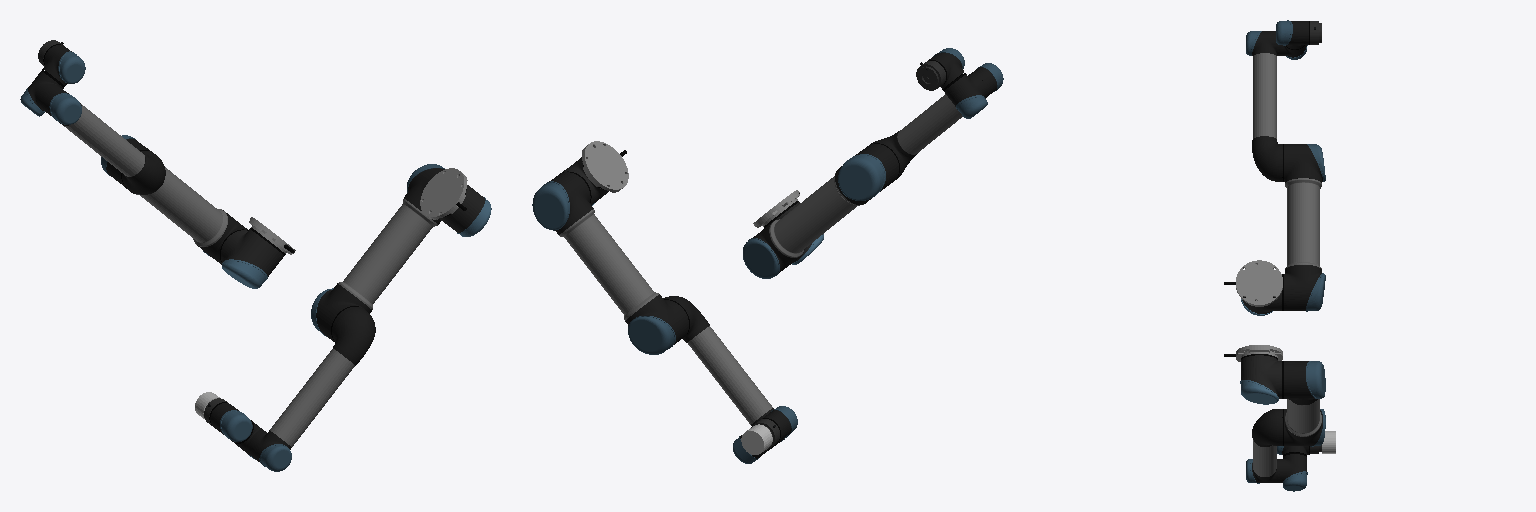
URDF robot description (madar):
<?xml version="1.0"?>
<robot name="madar">

    <!-- BEGIN: T-STRUCTURE -->
    <link name="madar_base_link">
        <visual>
            <geometry>
                <mesh filename="/meshes/estructura_asm.dae"/>
            </geometry>
        </visual>
        <collision>
            <origin xyz="0 0 0.375" rpy="0 0 0"/>
            <geometry>
                <cylinder radius="0.4" length="0.75"/>
            </geometry>
        </collision>
        <collision>
            <origin xyz="0 0 1.395" rpy="0 0 0"/>
            <geometry>
                <box size="0.5 0.08 0.05"/>
            </geometry>
        </collision>
        <collision>
            <origin xyz="0 0 1.056" rpy="0 0 0"/>
            <geometry>
                <box size="0.08 0.08 0.63"/>
            </geometry>
        </collision>
        <collision>
            <origin xyz="0 -0.14 0.916" rpy="0 0 0" />
            <geometry>
                <box size="0.43 0.2 0.33"/>
            </geometry>
        </collision>
    </link>
    <!-- END: T-STRUCTURE -->

    <!-- END: WHEELS -->
    <joint name="motor_1" type="continuous">
      <parent link="madar_base_link"/>
      <child link="wheel_1_link"/>
      <axis xyz="-1 0 0"/>
      <origin rpy="2.0944 0 1.5708" xyz="0 -0.2905 0.1"/>
    </joint>
  
    <link name="wheel_1_link">
      <visual>
        <geometry>
            <mesh filename="/meshes/wheel.dae"/>
        </geometry>
      </visual>
      <collision>
        <geometry>
          <sphere radius="0.10"/>
        </geometry>
      </collision>
      <inertial>
         <mass value="10"/>
         <inertia ixx="0.04" ixy="0" ixz="0" iyy="0.04" iyz="0" izz="0.04"/> <!-- Provisional inertia values -->
       </inertial>
    </link>
  
    <joint name="motor_2" type="continuous">
      <parent link="madar_base_link"/>
      <child link="wheel_2_link"/>
      <axis xyz="-1 0 0"/>
      <origin rpy="0 0 3.66519" xyz="0.25158 0.14525 0.1"/>
    </joint>
  
    <link name="wheel_2_link">
      <visual>
        <geometry>
            <mesh filename="/meshes/wheel.dae"/>
        </geometry>
      </visual>
      <collision>
        <geometry>
          <sphere radius="0.10"/>
        </geometry>
      </collision>
      <inertial>
         <mass value="10"/>
         <inertia ixx="0.04" ixy="0" ixz="0" iyy="0.04" iyz="0" izz="0.04"/>
       </inertial>
    </link>
  
    <joint name="motor_3" type="continuous">
      <parent link="madar_base_link"/>
      <child link="wheel_3_link"/>
      <axis xyz="-1 0 0"/>
      <origin rpy="0 0 5.75959" xyz="-0.25158 0.14525 0.1"/>
    </joint>
  
    <link name="wheel_3_link">
      <visual>
        <geometry>
            <mesh filename="/meshes/wheel.dae"/>
        </geometry>
      </visual>
      <collision>
        <geometry>
          <sphere radius="0.10"/>
        </geometry>
      </collision>
      <inertial>
         <mass value="10"/>
         <inertia ixx="0.04" ixy="0" ixz="0" iyy="0.04" iyz="0" izz="0.04"/>
       </inertial>
    </link>
  
    <!-- END: WHEELS -->

    <!-- BEGIN: ARM RIGHT -->

    <joint name="right_base_link" type="fixed">
        <parent link="madar_base_link"/>
        <child link="right_base_link"/>
        <origin xyz="0.256 0.0 1.389" rpy="3.142 -0.7874 0.000"/>
    </joint>

    <link name="right_base_link">
        <visual>
            <origin xyz="0 0 0" rpy="0 0 3.14159"/>
            <geometry>
                <mesh filename="../UR5/visual/base.dae"/>
            </geometry>
        </visual>
        <collision>
            <origin xyz="0 0 0" rpy="0 0 3.14159"/>
            <geometry>
                <mesh filename="../UR5/collision/base.stl"/>
            </geometry>
        </collision>
        <inertial>
            <mass value="4.0000"/>
            <inertia ixx="0.00443333156" ixy="0" ixz="0" iyy="0.00443333156" iyz="0" izz="0.0072"/>
        </inertial>
    </link>
    
    <joint name="right_shoulder_pan_joint" type="revolute">
        <parent link="right_base_link"/>
        <child link="right_shoulder_link"/>
        <origin xyz="0 0 0.089159" rpy="0 0 0"/>
        <axis xyz="0 0 1"/>
        <limit effort="150" lower="-6.2831853" upper="6.2831853" velocity="3.14159"/>
    </joint>
    
    <link name="right_shoulder_link">
        <visual>
            <origin xyz="0 0 0" rpy="0 0 3.14159"/>
            <geometry>
                <mesh filename="../UR5/visual/shoulder.dae"/>
            </geometry>
        </visual>
        <collision>
            <origin xyz="0 0 0" rpy="0 0 3.14159"/>
            <geometry>
                <mesh filename="../UR5/collision/shoulder.stl"/>
            </geometry>
        </collision>
        <inertial>
            <mass value="3.7000"/>
            <inertia ixx="0.010267495893" ixy="0" ixz="0" iyy="0.010267495893" iyz="0" izz="0.00666"/>
        </inertial>
    </link>
    
    <joint name="right_shoulder_lift_joint" type="revolute">
        <parent link="right_shoulder_link"/>
        <child link="right_upper_arm_link"/>
        <origin xyz="0 0 0" rpy="1.570796327 0 0"/>
        <axis xyz="0 0 1"/>
        <limit effort="150" lower="-6.2831853" upper="6.2831853" velocity="3.14159"/>
    </joint>
    
    <link name="right_upper_arm_link">
        <visual>
            <origin xyz="0 0 0.13585" rpy="1.57079 0 -1.57079"/>
            <geometry>
                <mesh filename="../UR5/visual/upperarm.dae"/>
            </geometry>
        </visual>
        <collision>
            <origin xyz="0 0 0.13585" rpy="1.57079 0 -1.57079"/>
            <geometry>
                <mesh filename="../UR5/collision/upperarm.stl"/>
            </geometry>
        </collision>
        <inertial>
          <mass value="8.3930"/>
          <origin xyz="0 0 0.28"/>
          <inertia ixx="0.22689067591" ixy="0" ixz="0" iyy="0.22689067591" iyz="0" izz="0.0151074"/>
        </inertial>
    </link>
    
    <joint name="right_elbow_joint" type="revolute">
        <parent link="right_upper_arm_link"/>
        <child link="right_fore_arm_link"/>
        <origin xyz="-0.425 0 0" rpy="0 0 0"/>
        <axis xyz="0 0 1"/>
        <limit effort="150" lower="-6.2831853" upper="6.2831853" velocity="3.14159"/>
        <!-- <limit effort="150" lower="-3.14159" upper="3.14159" velocity="3.14159"/> -->
    </joint>
    
    <link name="right_fore_arm_link">
        <visual>
            <origin xyz="0 0 0.0165" rpy="1.57079 0 -1.57079"/>
            <geometry>
                <mesh filename="../UR5/visual/forearm.dae"/>
            </geometry>
        </visual>
        <collision>
            <origin xyz="0 0 0.0165" rpy="1.57079 0 -1.57079"/>
            <geometry>
                <mesh filename="../UR5/collision/forearm.stl"/>
            </geometry>
        </collision>
        <inertial>
            <mass value="2.3300"/>
            <origin xyz="0 0 0.25"/>
            <inertia ixx="0.049443313556" ixy="0" ixz="0" iyy="0.049443313556" iyz="0" izz="0.004095"/>
        </inertial>
    </link>
    
    <joint name="right_wrist_1_joint" type="revolute">
        <parent link="right_fore_arm_link"/>
        <child link="right_wrist_1_link"/>
        <origin xyz="-0.39225 0 0.10915" rpy="0 0 0"/>
        <axis xyz="0 0 1"/>
        <limit effort="28" lower="-6.2831853" upper="6.2831853" velocity="3.14159"/>
      </joint>
    
    <link name="right_wrist_1_link">
        <visual>
            <origin xyz="0 0 -0.093" rpy="1.57079 0 0"/>
            <geometry>
                <mesh filename="../UR5/visual/wrist1.dae"/>
            </geometry>
        </visual>
        <collision>
            <origin xyz="0 0 -0.093" rpy="1.57079 0 0"/>
            <geometry>
                <mesh filename="../UR5/collision/wrist1.stl"/>
            </geometry>
        </collision>
        <inertial>
            <mass value="1.2190"/>
            <inertia ixx="0.111172755531" ixy="0" ixz="0" iyy="0.111172755531" iyz="0" izz="0.21942"/>
        </inertial>
    </link>
    
    <joint name="right_wrist_2_joint" type="revolute">
        <parent link="right_wrist_1_link"/>
        <child link="right_wrist_2_link"/>
        <origin xyz="0 -0.09465 -1.941303950897609e-11" rpy="1.570796327 0 0"/>
        <axis xyz="0 0 1"/>
        <limit effort="28" lower="-6.2831853" upper="6.2831853" velocity="3.14159"/>
    </joint>
    
    <link name="right_wrist_2_link">
        <visual>
            <origin xyz="0 0 -0.095" rpy="0 0 0"/>
            <geometry>
                <mesh filename="../UR5/visual/wrist2.dae"/>
            </geometry>
        </visual>
        <collision>
            <origin xyz="0 0 -0.095" rpy="0 0 0"/>
            <geometry>
                <mesh filename="../UR5/collision/wrist2.stl"/>
            </geometry>
        </collision>
        <inertial>
            <mass value="1.2190"/>
            <inertia ixx="0.111172755531" ixy="0" ixz="0" iyy="0.111172755531" iyz="0" izz="0.21942"/>
        </inertial>
    </link>
    
    <joint name="right_wrist_3_joint" type="revolute">
        <parent link="right_wrist_2_link"/>
        <child link="right_wrist_3_link"/>
        <origin xyz="0 0.0823 -1.688001216681175e-11" rpy="1.570796326589793 3.141592653589793 3.141592653589793"/>
        <axis xyz="0 0 1"/>
        <limit effort="28" lower="-6.2831853" upper="6.2831853" velocity="3.14159"/>
    </joint>
    
    <link name="right_wrist_3_link">
        <visual>
            <origin xyz="0 0 -0.0818" rpy="1.57079 0 0"/>
            <geometry>
                <mesh filename="../UR5/visual/wrist3.dae"/>
            </geometry>
        </visual>
        <collision>
            <origin xyz="0 0 -0.0818" rpy="1.57079 0 0"/>
            <geometry>
                <mesh filename="../UR5/collision/wrist3.stl"/>
            </geometry>
        </collision>
        <inertial>
            <mass value="0.1879"/>
            <inertia ixx="0.0171364731454" ixy="0" ixz="0" iyy="0.0171364731454" iyz="0" izz="0.033822"/>
        </inertial>
    </link>

    <!-- END: ARM RIGHT -->

    <!-- BEGIN: ARM LEFT -->

    <joint name="left_base_link" type="fixed">
        <parent link="madar_base_link"/>
        <child link="left_base_link"/>
        <origin xyz="-0.256 0.0 1.389" rpy="-3.142 0.7874 0.000"/>
    </joint>

    <link name="left_base_link">
        <visual>
            <origin xyz="0 0 0" rpy="0 0 3.14159"/>
            <geometry>
                <mesh filename="../UR5/visual/base.dae"/>
            </geometry>
        </visual>
        <collision>
            <origin xyz="0 0 0" rpy="0 0 3.14159"/>
            <geometry>
                <mesh filename="../UR5/collision/base.stl"/>
            </geometry>
        </collision>
        <inertial>
            <mass value="4.0000"/>
            <inertia ixx="0.00443333156" ixy="0" ixz="0" iyy="0.00443333156" iyz="0" izz="0.0072"/>
        </inertial>
    </link>
    
    <joint name="left_shoulder_pan_joint" type="revolute">
        <parent link="left_base_link"/>
        <child link="left_shoulder_link"/>
        <origin xyz="0 0 0.089159" rpy="0 0 0"/>
        <axis xyz="0 0 1"/>
        <limit effort="150" lower="-6.2831853" upper="6.2831853" velocity="3.14159"/>
    </joint>
    
    <link name="left_shoulder_link">
        <visual>
            <origin xyz="0 0 0" rpy="0 0 3.14159"/>
            <geometry>
                <mesh filename="../UR5/visual/shoulder.dae"/>
            </geometry>
        </visual>
        <collision>
            <origin xyz="0 0 0" rpy="0 0 3.14159"/>
            <geometry>
                <mesh filename="../UR5/collision/shoulder.stl"/>
            </geometry>
        </collision>
        <inertial>
            <mass value="3.7000"/>
            <inertia ixx="0.010267495893" ixy="0" ixz="0" iyy="0.010267495893" iyz="0" izz="0.00666"/>
        </inertial>
    </link>
    
    <joint name="left_shoulder_lift_joint" type="revolute">
        <parent link="left_shoulder_link"/>
        <child link="left_upper_arm_link"/>
        <origin xyz="0 0 0" rpy="1.570796327 0 0"/>
        <axis xyz="0 0 1"/>
        <limit effort="150" lower="-6.2831853" upper="6.2831853" velocity="3.14159"/>
    </joint>
    
    <link name="left_upper_arm_link">
        <visual>
            <origin xyz="0 0 0.13585" rpy="1.57079 0 -1.57079"/>
            <geometry>
                <mesh filename="../UR5/visual/upperarm.dae"/>
            </geometry>
        </visual>
        <collision>
            <origin xyz="0 0 0.13585" rpy="1.57079 0 -1.57079"/>
            <geometry>
                <mesh filename="../UR5/collision/upperarm.stl"/>
            </geometry>
        </collision>
        <inertial>
          <mass value="8.3930"/>
          <origin xyz="0 0 0.28"/>
          <inertia ixx="0.22689067591" ixy="0" ixz="0" iyy="0.22689067591" iyz="0" izz="0.0151074"/>
        </inertial>
    </link>
    
    <joint name="left_elbow_joint" type="revolute">
        <parent link="left_upper_arm_link"/>
        <child link="left_fore_arm_link"/>
        <origin xyz="-0.425 0 0" rpy="0 0 0"/>
        <axis xyz="0 0 1"/>
        <limit effort="150" lower="-6.2831853" upper="6.2831853" velocity="3.14159"/>
    </joint>
    
    <link name="left_fore_arm_link">
        <visual>
            <origin xyz="0 0 0.0165" rpy="1.57079 0 -1.57079"/>
            <geometry>
                <mesh filename="../UR5/visual/forearm.dae"/>
            </geometry>
        </visual>
        <collision>
            <origin xyz="0 0 0.0165" rpy="1.57079 0 -1.57079"/>
            <geometry>
                <mesh filename="../UR5/collision/forearm.stl"/>
            </geometry>
        </collision>
        <inertial>
            <mass value="2.3300"/>
            <origin xyz="0 0 0.25"/>
            <inertia ixx="0.049443313556" ixy="0" ixz="0" iyy="0.049443313556" iyz="0" izz="0.004095"/>
        </inertial>
    </link>
    
    <joint name="left_wrist_1_joint" type="revolute">
        <parent link="left_fore_arm_link"/>
        <child link="left_wrist_1_link"/>
        <origin xyz="-0.39225 0 0.10915" rpy="0 0 0"/>
        <axis xyz="0 0 1"/>
        <limit effort="28" lower="-6.2831853" upper="6.2831853" velocity="3.14159"/>
      </joint>
    
    <link name="left_wrist_1_link">
        <visual>
            <origin xyz="0 0 -0.093" rpy="1.57079 0 0"/>
            <geometry>
                <mesh filename="../UR5/visual/wrist1.dae"/>
            </geometry>
        </visual>
        <collision>
            <origin xyz="0 0 -0.093" rpy="1.57079 0 0"/>
            <geometry>
                <mesh filename="../UR5/collision/wrist1.stl"/>
            </geometry>
        </collision>
        <inertial>
            <mass value="1.2190"/>
            <inertia ixx="0.111172755531" ixy="0" ixz="0" iyy="0.111172755531" iyz="0" izz="0.21942"/>
        </inertial>
    </link>
    
    <joint name="left_wrist_2_joint" type="revolute">
        <parent link="left_wrist_1_link"/>
        <child link="left_wrist_2_link"/>
        <origin xyz="0 -0.09465 -1.941303950897609e-11" rpy="1.570796327 0 0"/>
        <axis xyz="0 0 1"/>
        <limit effort="28" lower="-6.2831853" upper="6.2831853" velocity="3.14159"/>
    </joint>
    
    <link name="left_wrist_2_link">
        <visual>
            <origin xyz="0 0 -0.095" rpy="0 0 0"/>
            <geometry>
                <mesh filename="../UR5/visual/wrist2.dae"/>
            </geometry>
        </visual>
        <collision>
            <origin xyz="0 0 -0.095" rpy="0 0 0"/>
            <geometry>
                <mesh filename="../UR5/collision/wrist2.stl"/>
            </geometry>
        </collision>
        <inertial>
            <mass value="1.2190"/>
            <inertia ixx="0.111172755531" ixy="0" ixz="0" iyy="0.111172755531" iyz="0" izz="0.21942"/>
        </inertial>
    </link>
    
    <joint name="left_wrist_3_joint" type="revolute">
        <parent link="left_wrist_2_link"/>
        <child link="left_wrist_3_link"/>
        <origin xyz="0 0.0823 -1.688001216681175e-11" rpy="1.570796326589793 3.141592653589793 3.141592653589793"/>
        <axis xyz="0 0 1"/>
        <limit effort="28" lower="-6.2831853" upper="6.2831853" velocity="3.14159"/>
    </joint>
    
    <link name="left_wrist_3_link">
        <visual>
            <origin xyz="0 0 -0.0818" rpy="1.57079 0 0"/>
            <geometry>
                <mesh filename="../UR5/visual/wrist3.dae"/>
            </geometry>
        </visual>
        <collision>
            <origin xyz="0 0 -0.0818" rpy="1.57079 0 0"/>
            <geometry>
                <mesh filename="../UR5/collision/wrist3.stl"/>
            </geometry>
        </collision>
        <inertial>
            <mass value="0.1879"/>
            <inertia ixx="0.0171364731454" ixy="0" ixz="0" iyy="0.0171364731454" iyz="0" izz="0.033822"/>
        </inertial>
    </link>

    <!-- END: ARM LEFT -->

    <!-- BEGIN: HAND RIGHT -->

    <joint name="right_hand_adapter_joint" type="fixed">
        <origin xyz="0 0 0.0225" rpy="0 0 0"/>
        <parent link="right_wrist_3_link"/>
        <child link="right_hand_adapter_link"/>
    </joint>

    <link name="right_hand_adapter_link" >
        <visual>
            <origin xyz="0 0 0" rpy="0 0 0" />
            <geometry>
                <cylinder radius="0.035" length="0.045"/>
            </geometry>
            <material name="LightGrey">
                <color rgba="0.7 0.7 0.7 1.0"/>
            </material>
        </visual>
        <collision>
            <origin xyz="0 0 0" rpy="0 0 0" />
            <geometry>
                <cylinder radius="0.035" length="0.045"/>
            </geometry>
        </collision>
    </link>

    <joint name="right_hand_support_joint" type="fixed">
        <parent link="right_hand_adapter_link"/>
        <child link = "right_hand_base_link" />
        <origin xyz="0.0 0.01 0.1175" rpy="0.0 0.0 1.570796326589793" />
    </joint>

    <link name="right_hand_base_link">
        <visual>
            <geometry>
                <mesh filename="../AllegroHand/right/ah_right_base_link.stl"/>
            </geometry>
            <origin rpy="0 0 0" xyz="0 0 0 "/>
            <material name="black">
                <color rgba="0.2 0.2 0.2 1"/>
            </material>
        </visual>
        <collision>
            <origin rpy="0 0 0" xyz="-0.009300 0 -0.0475"/>
            <geometry>
                <box size="0.0408 0.1130 0.095"/>
            </geometry>
        </collision>
    </link>



    <!-- END: HAND RIGHT -->

    <!-- BEGIN: HAND LEFT -->

    <!-- END: HAND LEFT -->	

</robot>

--- Facts derived from the render (not from the file) ---
The picture shows the robot from 3 angles, left to right: view 1: azimuth 30°, elevation 25°; view 2: azimuth 150°, elevation 25°; view 3: azimuth 270°, elevation 25°; orthographic projection.
Model madar with 20 links and 19 joints (12 revolute, 3 continuous, 4 fixed), rooted at madar_base_link, posed all joints at 0.
Visible links, largest first — view 1: right_upper_arm_link, right_fore_arm_link, left_fore_arm_link, left_upper_arm_link, left_shoulder_link, right_base_link, right_shoulder_link, left_wrist_2_link, right_wrist_2_link, left_wrist_1_link; view 2: right_upper_arm_link, left_upper_arm_link, right_fore_arm_link, left_fore_arm_link, right_base_link, left_wrist_1_link, left_wrist_2_link, right_hand_adapter_link, left_wrist_3_link, right_wrist_2_link; view 3: left_upper_arm_link, left_fore_arm_link, right_upper_arm_link, right_fore_arm_link, right_shoulder_link, left_base_link, right_wrist_1_link, left_wrist_2_link.
Link boxes in pixels (box(x1,y1,x2,y2)): right_upper_arm_link: box(311, 164, 444, 342); right_fore_arm_link: box(249, 307, 375, 471); left_fore_arm_link: box(39, 85, 165, 194); left_upper_arm_link: box(101, 135, 248, 264); left_shoulder_link: box(221, 228, 285, 288); right_base_link: box(420, 168, 467, 219); right_shoulder_link: box(439, 185, 491, 236); left_wrist_2_link: box(43, 44, 85, 85); right_wrist_2_link: box(209, 402, 252, 442); left_wrist_1_link: box(20, 69, 64, 116); right_upper_arm_link: box(532, 172, 689, 354); left_upper_arm_link: box(743, 143, 899, 278); right_fore_arm_link: box(663, 296, 789, 448); left_fore_arm_link: box(870, 63, 1003, 179); right_base_link: box(582, 141, 628, 192); left_wrist_1_link: box(943, 73, 987, 118); left_wrist_2_link: box(928, 48, 964, 89); right_hand_adapter_link: box(741, 424, 772, 454); left_wrist_3_link: box(916, 61, 945, 90); right_wrist_2_link: box(762, 406, 797, 444); left_upper_arm_link: box(1282, 144, 1325, 311); left_fore_arm_link: box(1246, 31, 1282, 181); right_upper_arm_link: box(1282, 361, 1325, 446); right_fore_arm_link: box(1246, 409, 1282, 483); right_shoulder_link: box(1240, 354, 1281, 404); left_base_link: box(1224, 260, 1282, 306); right_wrist_1_link: box(1280, 452, 1307, 491); left_wrist_2_link: box(1276, 20, 1309, 48).
Bounding box of the posed robot: 1.36 × 0.3465 × 1.32 m (x, y, z).
14 mesh visuals loaded from 8 distinct referenced files (7 Collada DAE); not drawn: 1 (reference not matched to a file when rendering), 4 (reference in a form the renderer does not follow; not among the files counted above).
